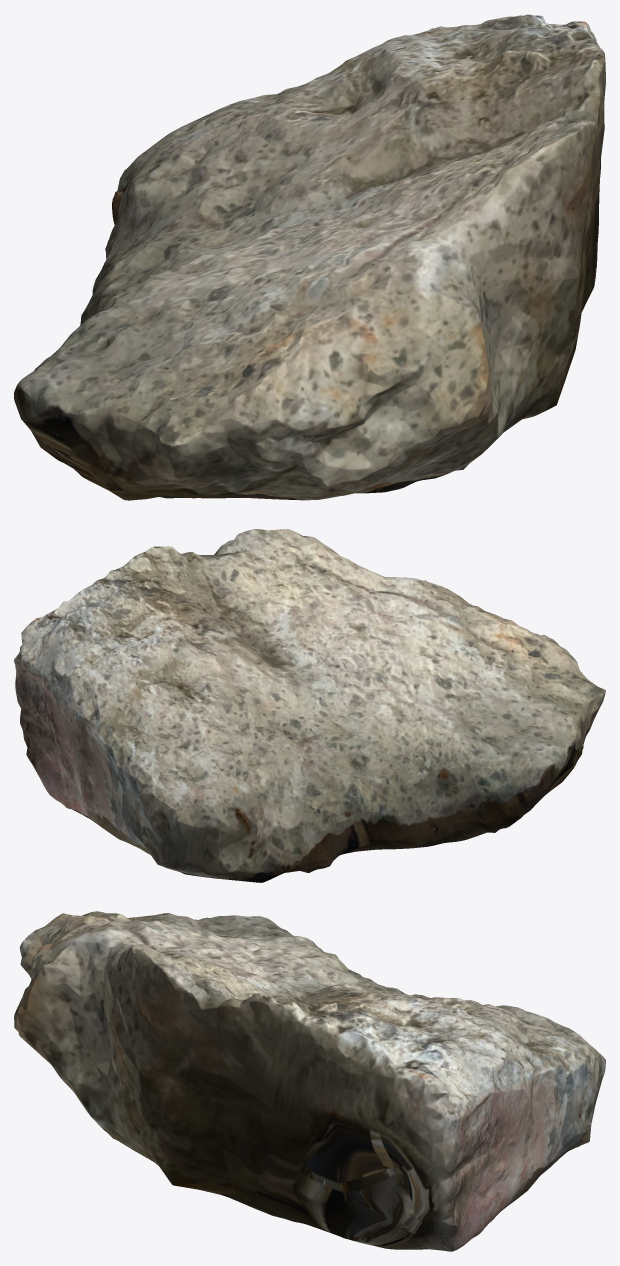
File: FRAG-S1-FS-009.glb
The picture shows the model from 3 angles, top to bottom: view 1: azimuth 30°, elevation 25°; view 2: azimuth 150°, elevation 25°; view 3: azimuth 270°, elevation 25°; orthographic projection. The views are drawn at different scales.
Parts seen in each view (by area): view 1: FRAG-S1-FS-009; view 2: FRAG-S1-FS-009; view 3: FRAG-S1-FS-009.
Boxes of the visible parts, x1=… form: FRAG-S1-FS-009: x1=14, y1=14, x2=605, y2=500; FRAG-S1-FS-009: x1=14, y1=529, x2=605, y2=882; FRAG-S1-FS-009: x1=14, y1=911, x2=605, y2=1251.
Size of the model in its own units: 1.17 by 0.5131 by 1.09.
1 material, 1 textured.
